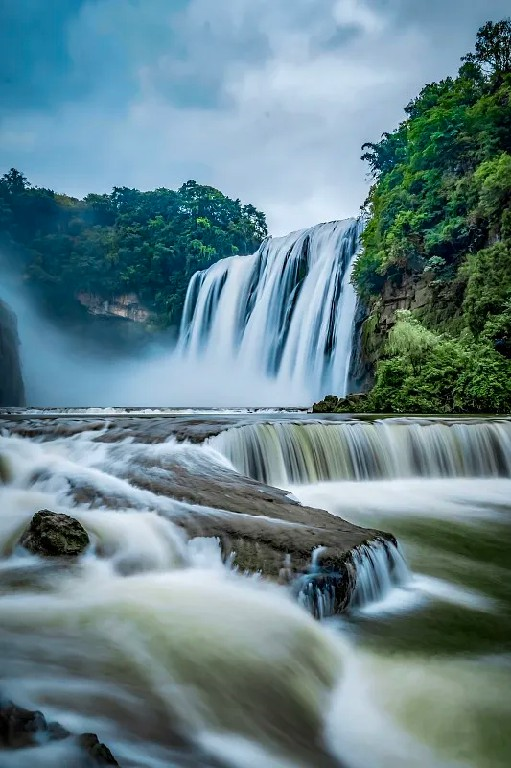Huangguoshu: (173, 217, 359, 407)
